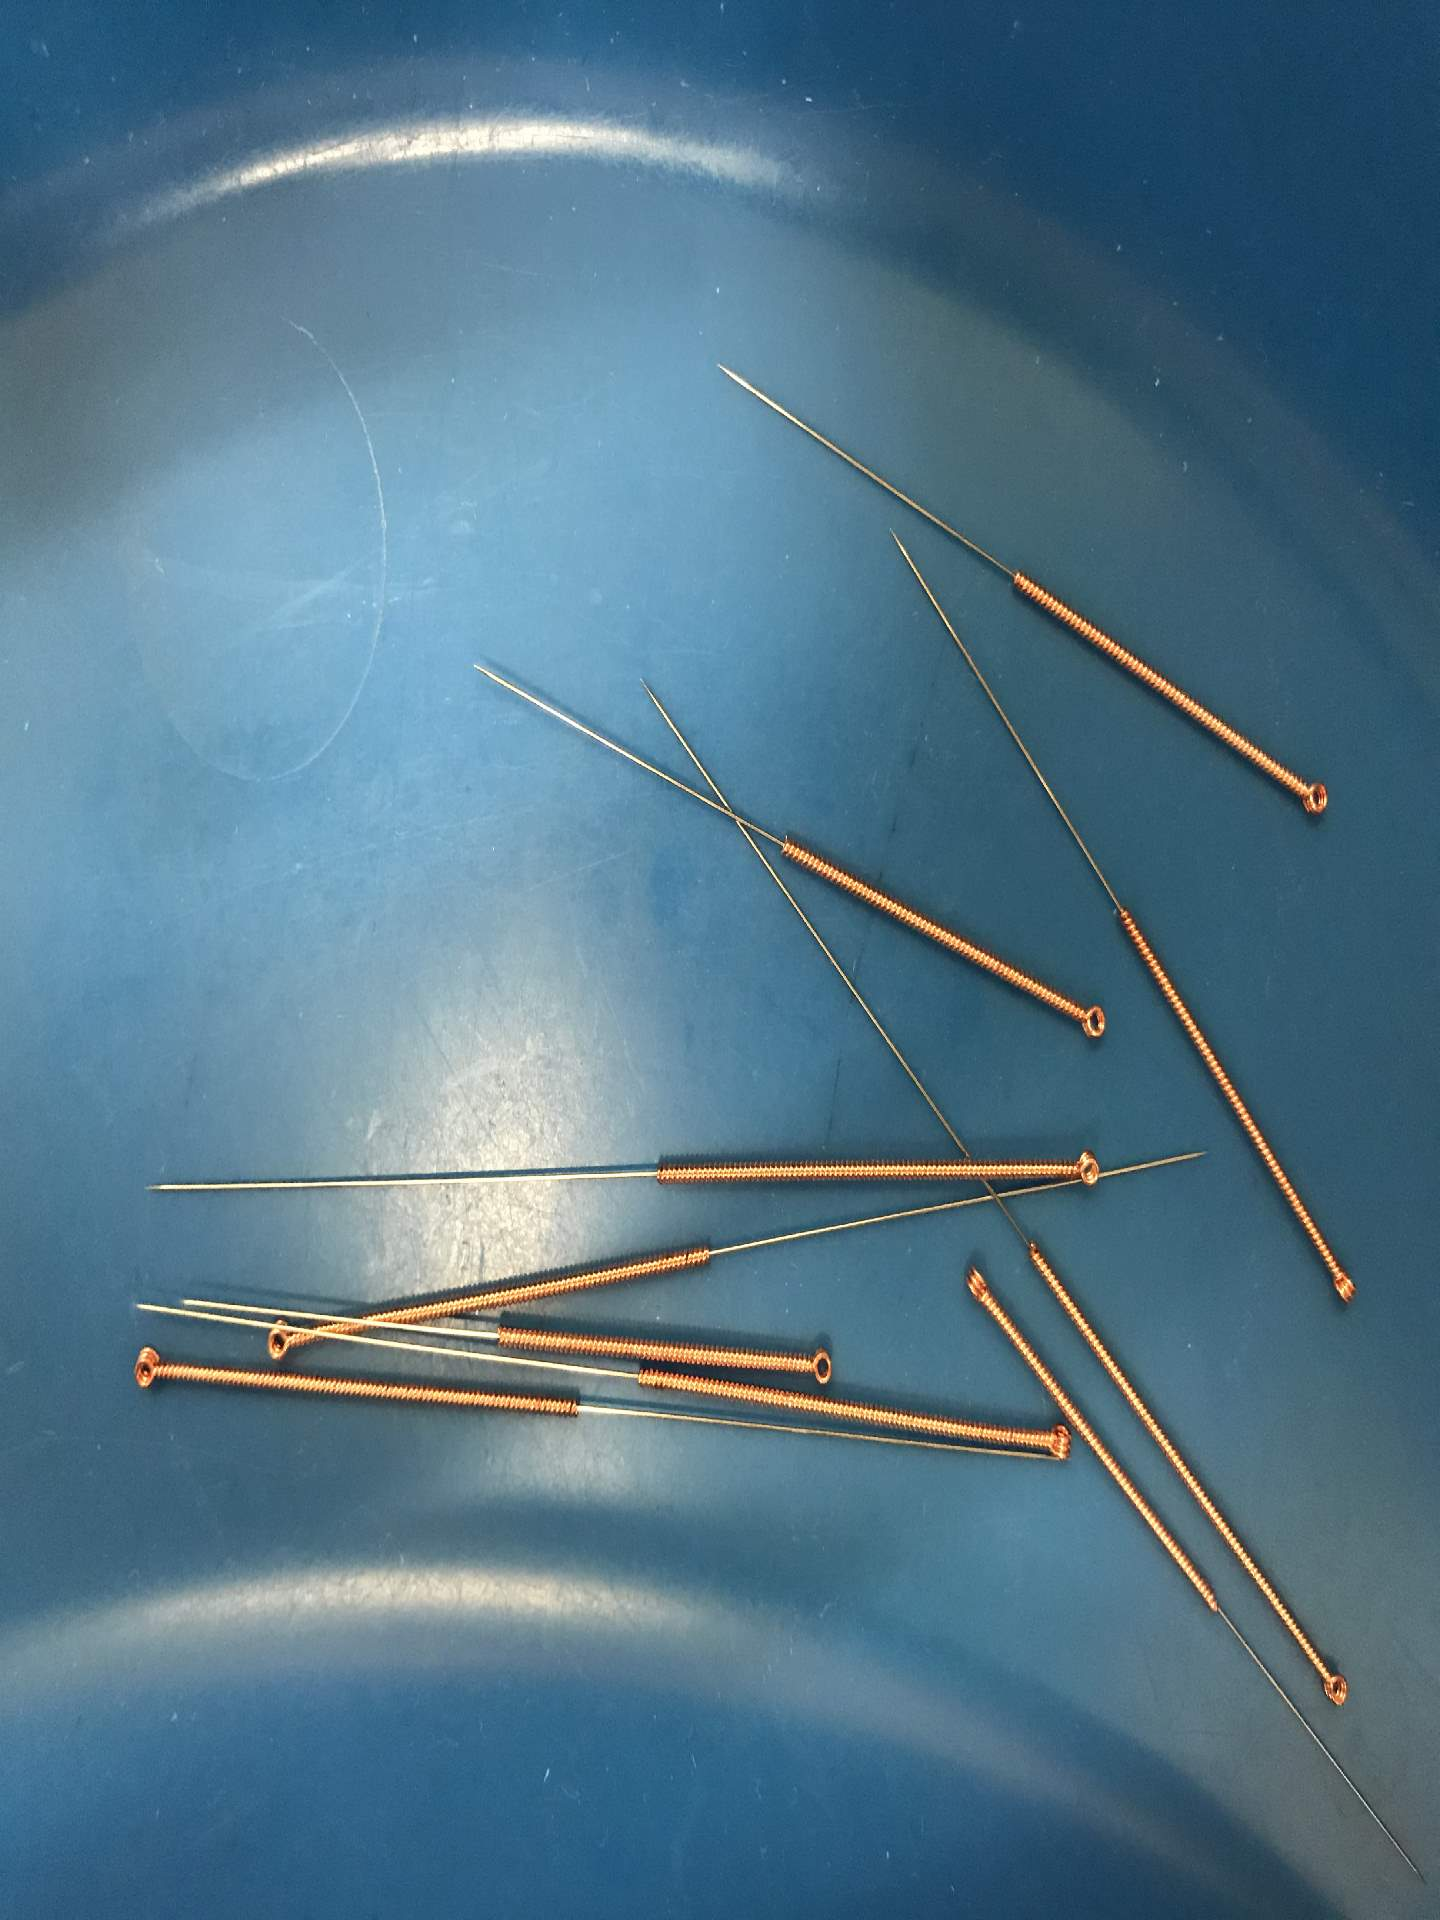needle: (1277, 763, 1339, 830), (116, 1339, 178, 1401), (1060, 990, 1121, 1054), (951, 1249, 1003, 1323), (1305, 1649, 1357, 1716), (1314, 1250, 1364, 1318), (1057, 1141, 1112, 1199), (253, 1314, 307, 1370), (796, 1330, 843, 1392), (1027, 1418, 1077, 1471)
